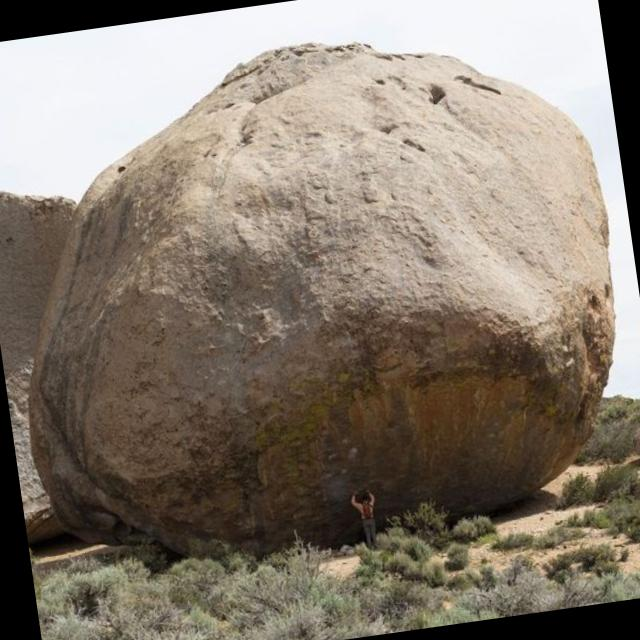grass: (30, 465, 640, 640)
rocks: (30, 44, 612, 550), (0, 192, 74, 542)
